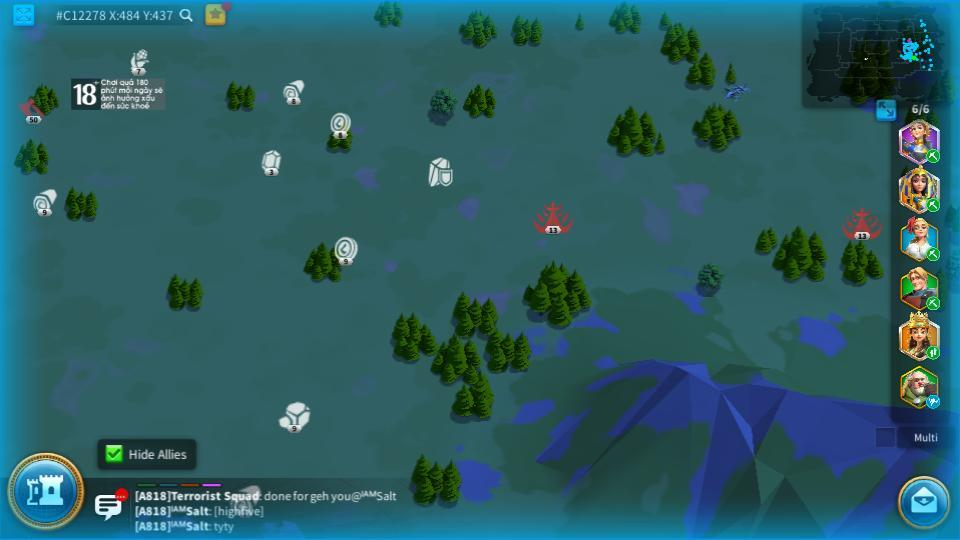gem-z-out: (259, 150, 281, 175)
march_farming: (923, 198, 940, 213), (924, 149, 939, 162), (926, 297, 941, 308)
march_idle: (925, 396, 942, 408)
march_marching: (925, 347, 941, 359)
